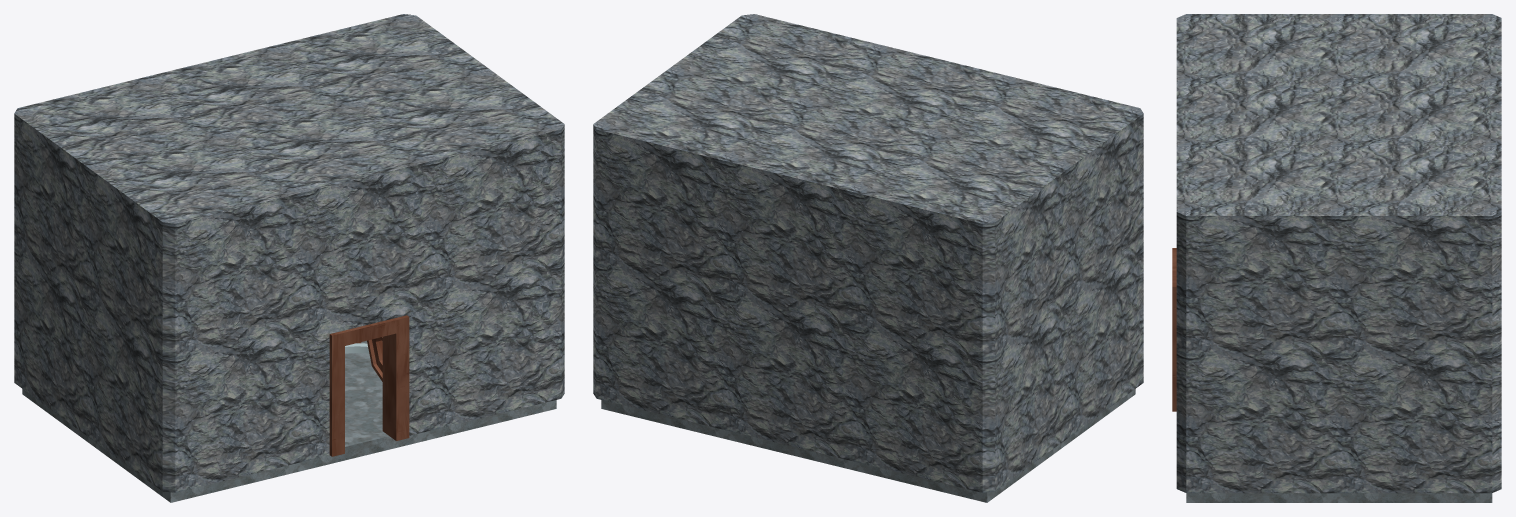
File: Level_2_0-No-Elevator.fbx
3 renders of one model, left to right at view 1: azimuth 30°, elevation 25°; view 2: azimuth 150°, elevation 25°; view 3: azimuth 270°, elevation 25°, orthographic. The views are drawn at different scales.
Parts seen in each view (by area): view 1: mergedBlocks; view 2: mergedBlocks; view 3: mergedBlocks.
Part boxes in pixels (box(x1,y1,x2,y2)): mergedBlocks: box(14, 14, 564, 502); mergedBlocks: box(593, 14, 1143, 502); mergedBlocks: box(1172, 14, 1501, 502).
Bounding box in the file's own units: 62.5 × 42 × 43.1.
8 materials, 4 textured.
